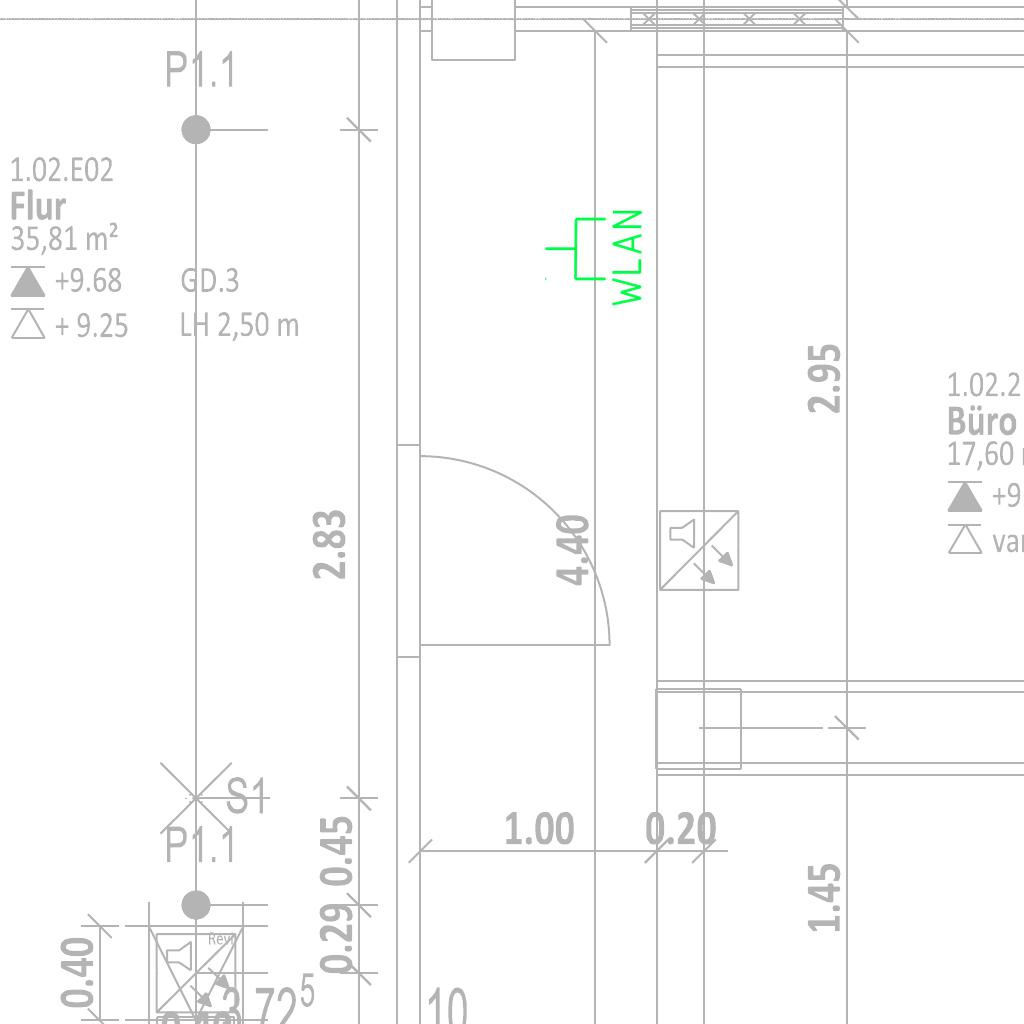WLAN: (542, 206, 646, 311)
